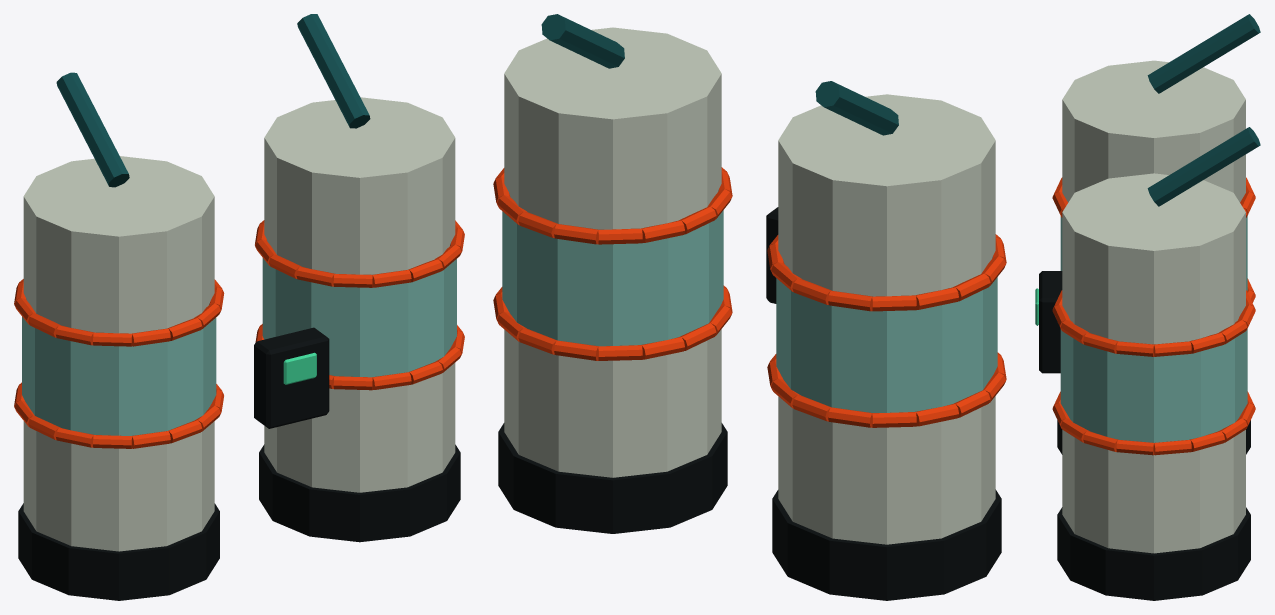
Rendered from SM_MP_Mycelium_Vat.fbx.
3 renders of one model, left to right at view 1: azimuth 30°, elevation 25°; view 2: azimuth 150°, elevation 25°; view 3: azimuth 270°, elevation 25°, orthographic. The views are drawn at different scales.
Parts seen in each view (by area): view 1: SM_MP_Mycelium_Vat; view 2: SM_MP_Mycelium_Vat; view 3: SM_MP_Mycelium_Vat.
Part boxes in pixels (x1,y1,x2,y2): SM_MP_Mycelium_Vat: [14, 14, 464, 600]; SM_MP_Mycelium_Vat: [493, 14, 1006, 600]; SM_MP_Mycelium_Vat: [1035, 14, 1260, 600].
Bounding box in the file's own units: 282 × 135 × 286.
1 material, 1 textured.
